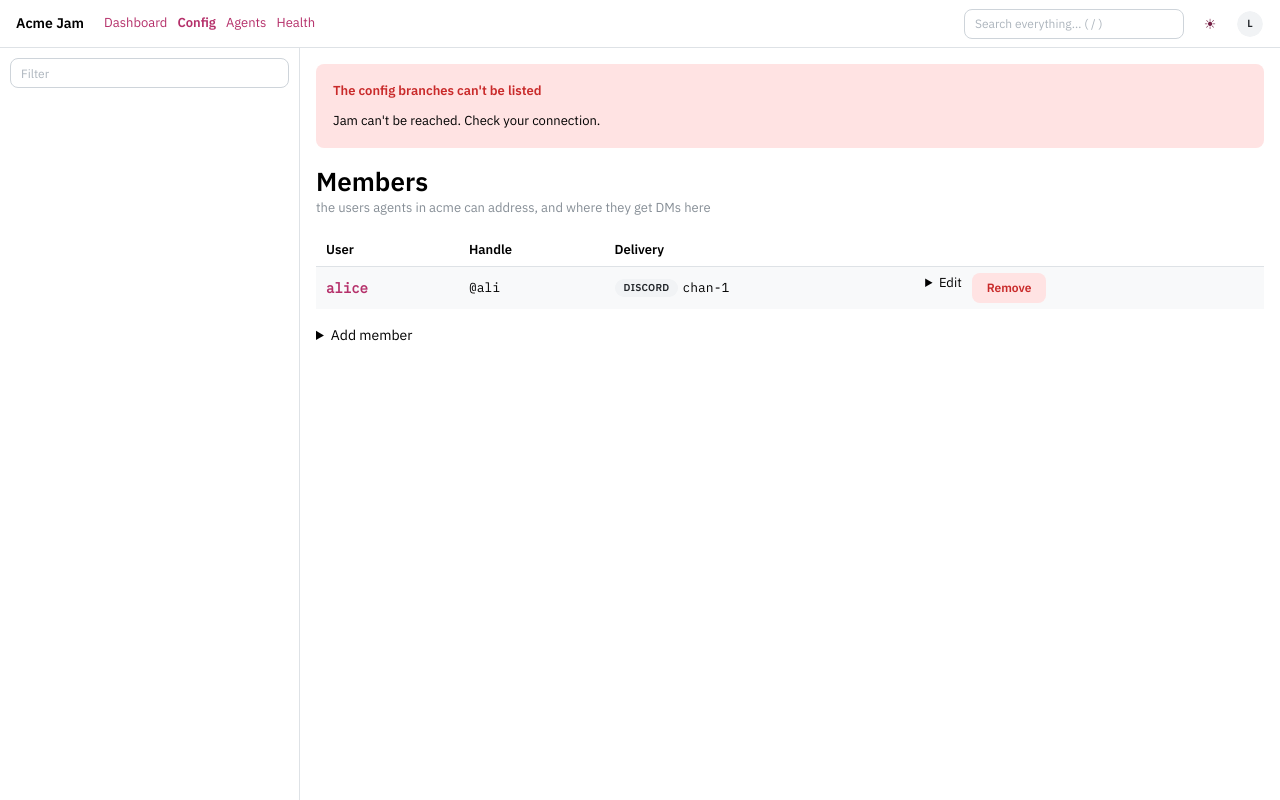
Test: project members › refreshes a member's edit box when their delivery changes
Click the heading "Add member" at (372, 335), box [331,326,412,344]
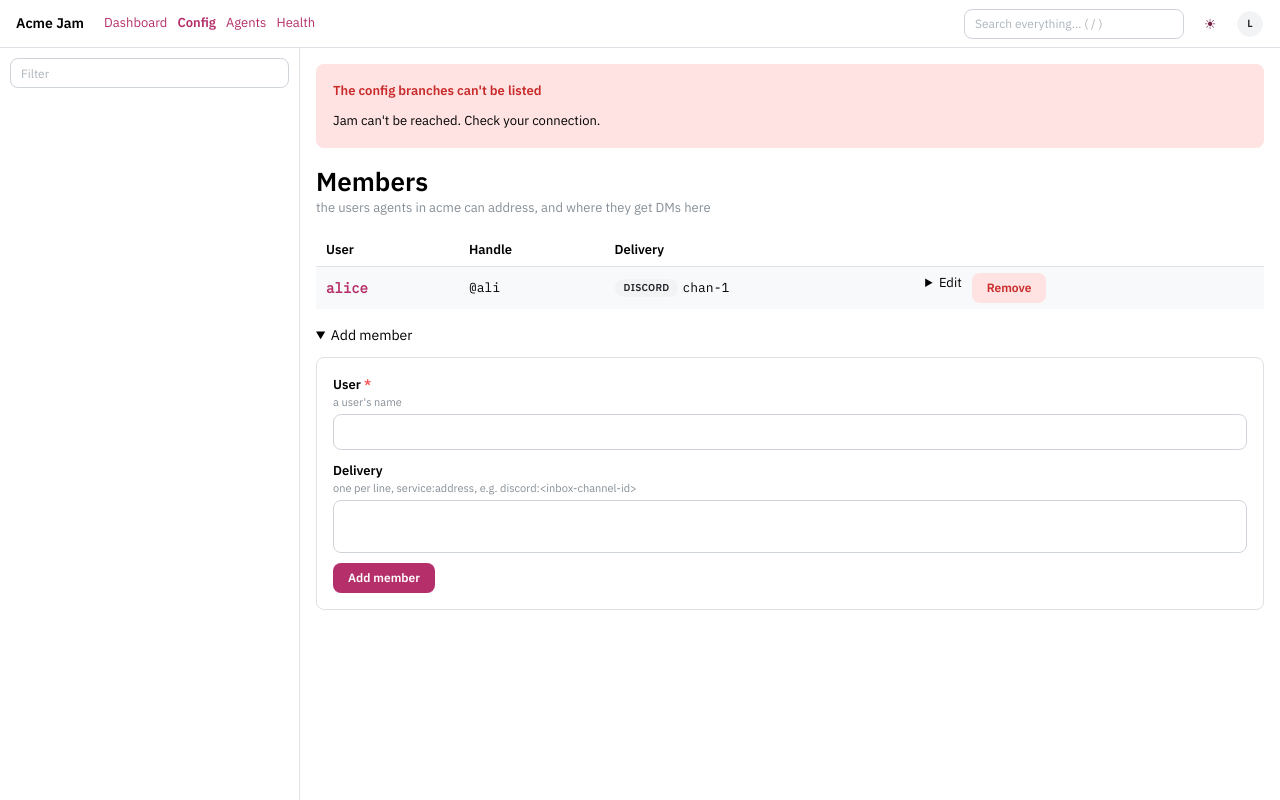
Type "alice" into the field labelled "User *" at (790, 432), box [333,414,1247,450]
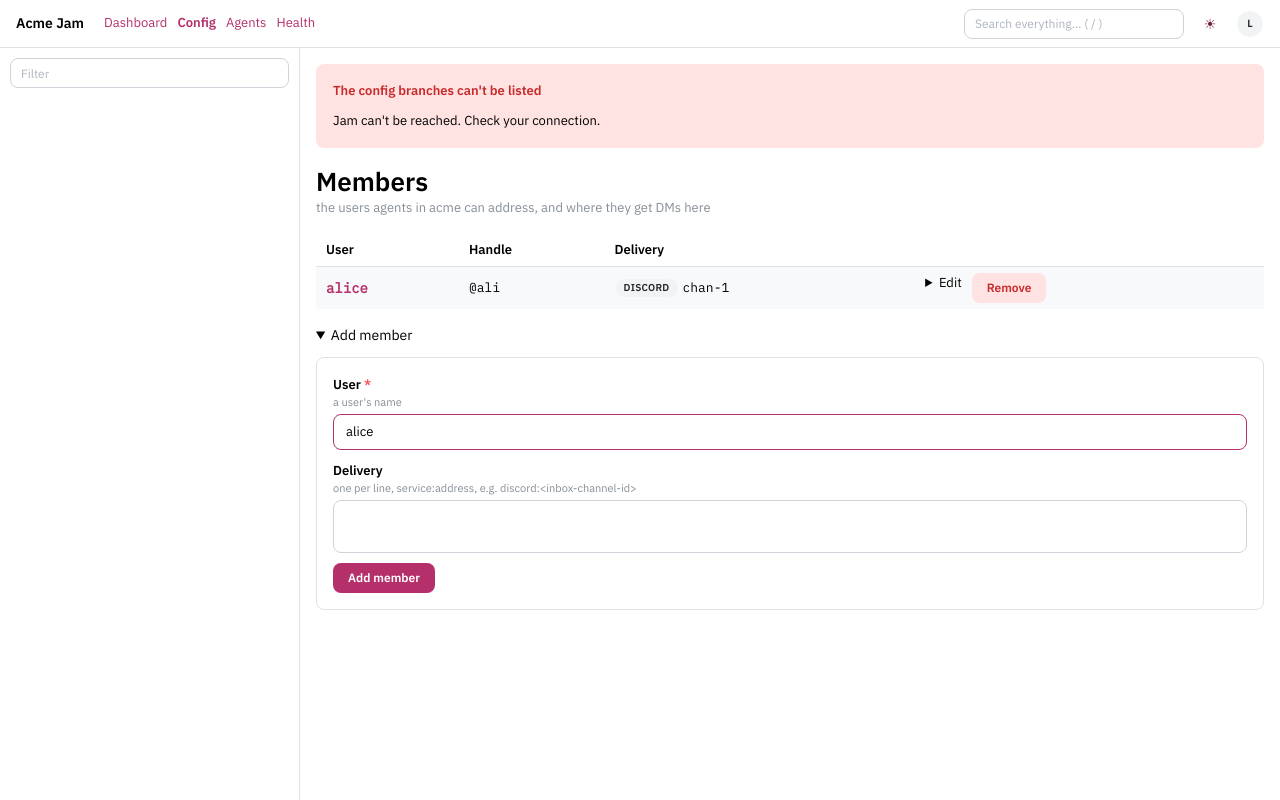
Click the button "Add member" at (384, 578), box [333,563,435,593]
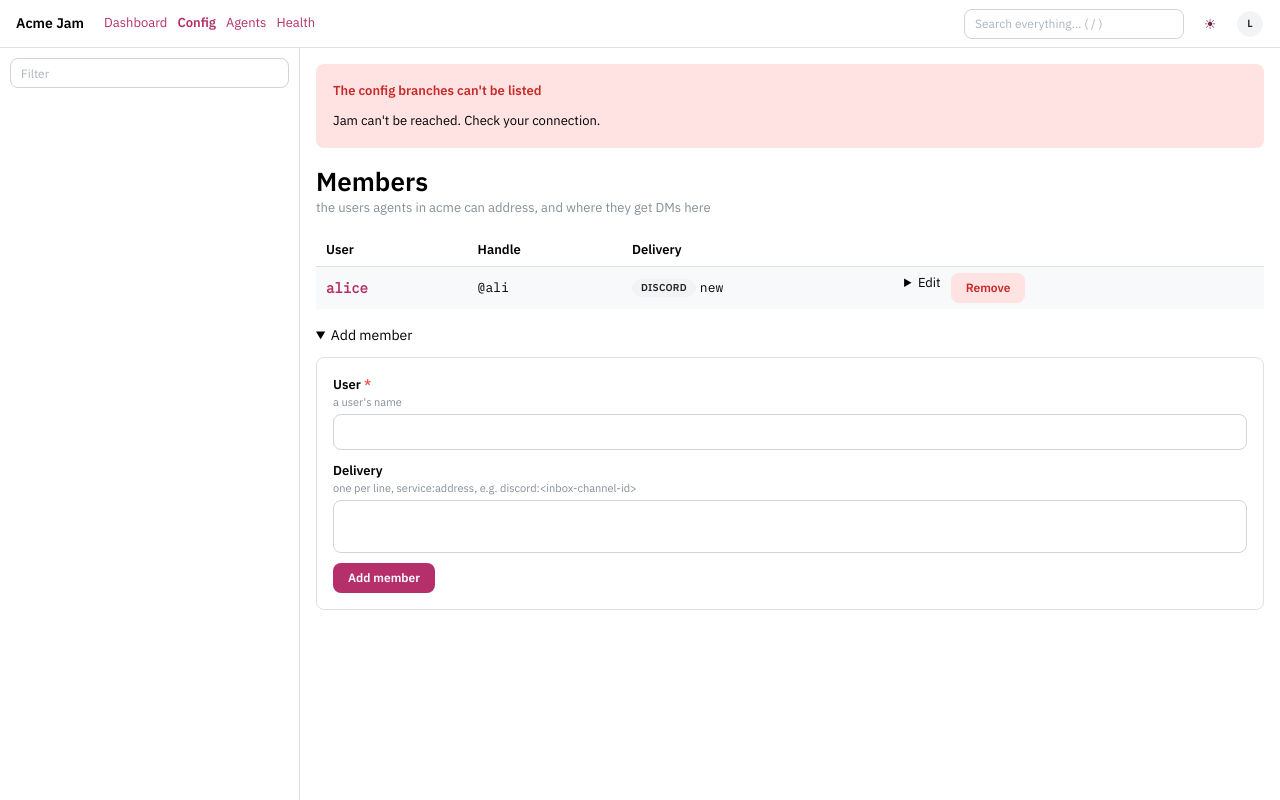
Expected: the text "new" is shown, [700,279,723,298]
Click the heading "Edit" at (929, 283), box [918,274,941,291]
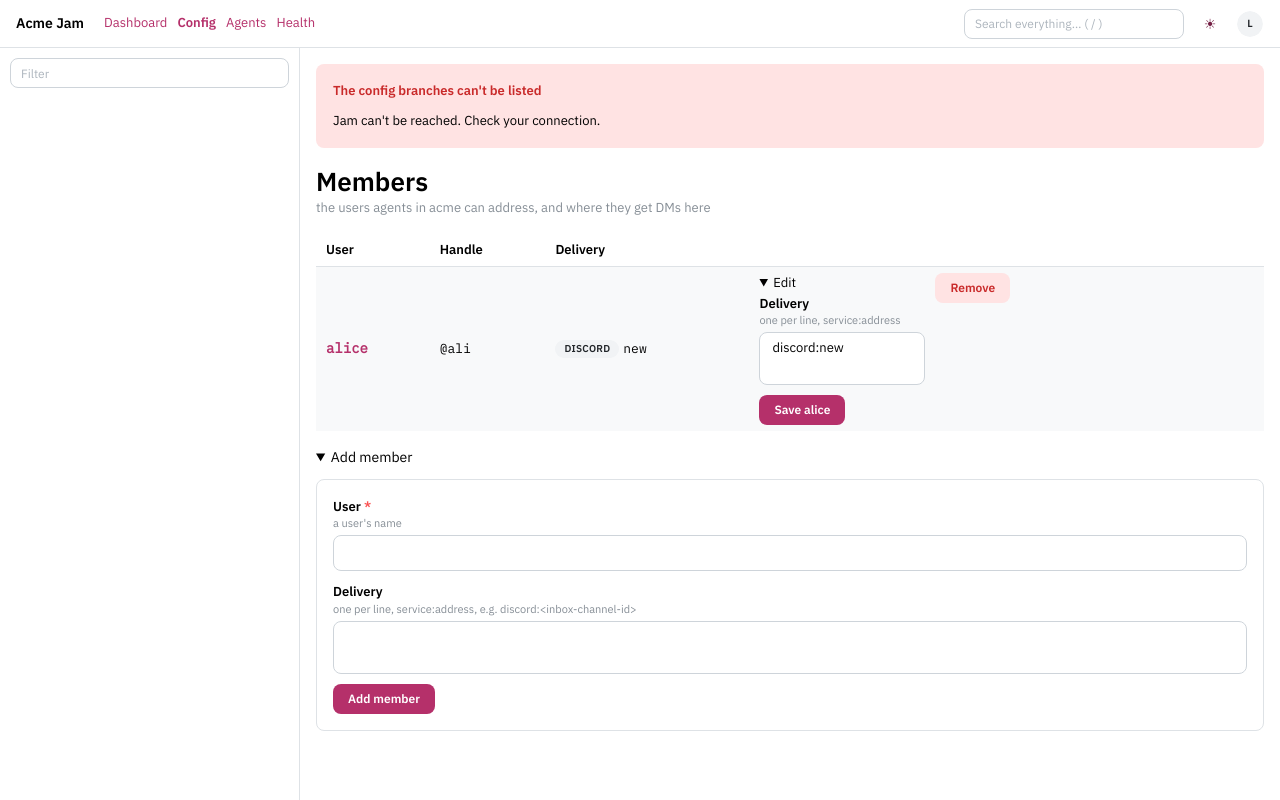
Expected: the text box showing "discord:new" below "Edit" is shown, [759,332,925,385]
